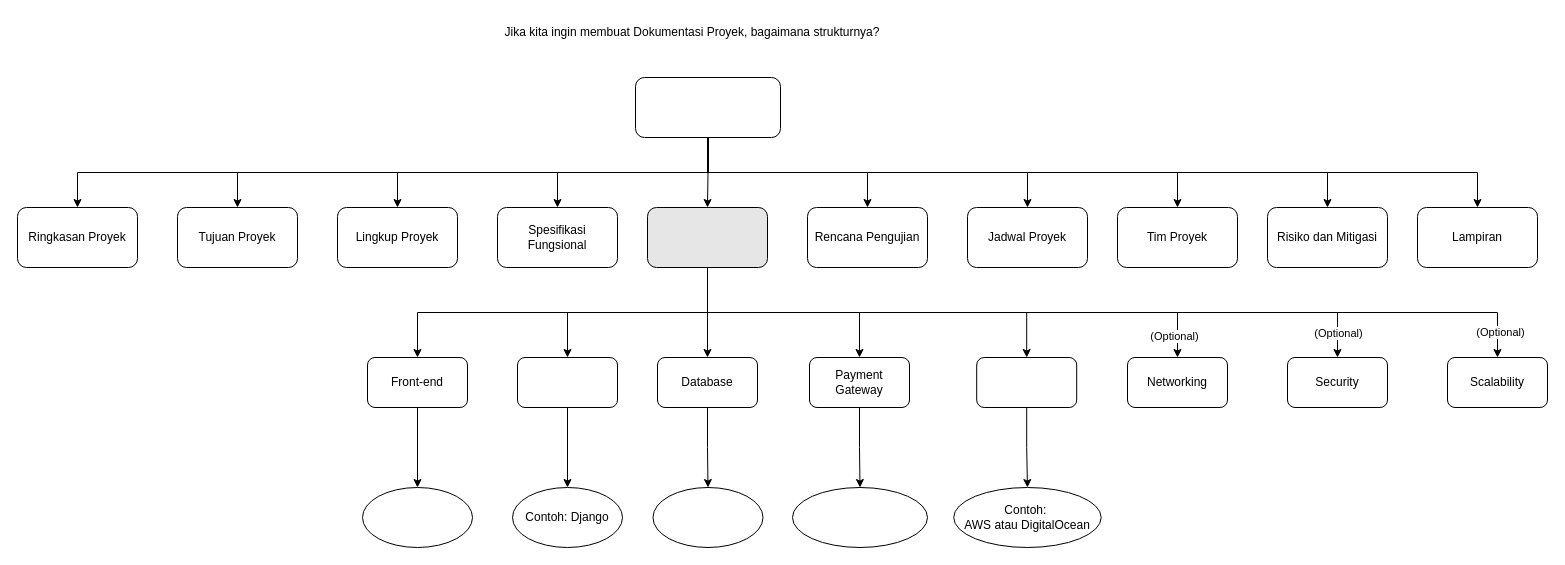
Image size: 1565x565. Some labels were removed from this diagram. The box of each missing label's shape, as (x1, y1, x2, y2) in pixels:
Arsitektur Sistem: (646, 206, 768, 268)
Back-end: (516, 356, 618, 408)
Contoh: Flutter: (362, 486, 472, 548)
Contoh: Postgre: (652, 486, 763, 548)
Contoh: Stripe atau Paypal: (792, 486, 928, 548)
Infrastructure: (976, 356, 1077, 408)
Struktur Dokumentasi Proyek: (634, 76, 780, 138)
